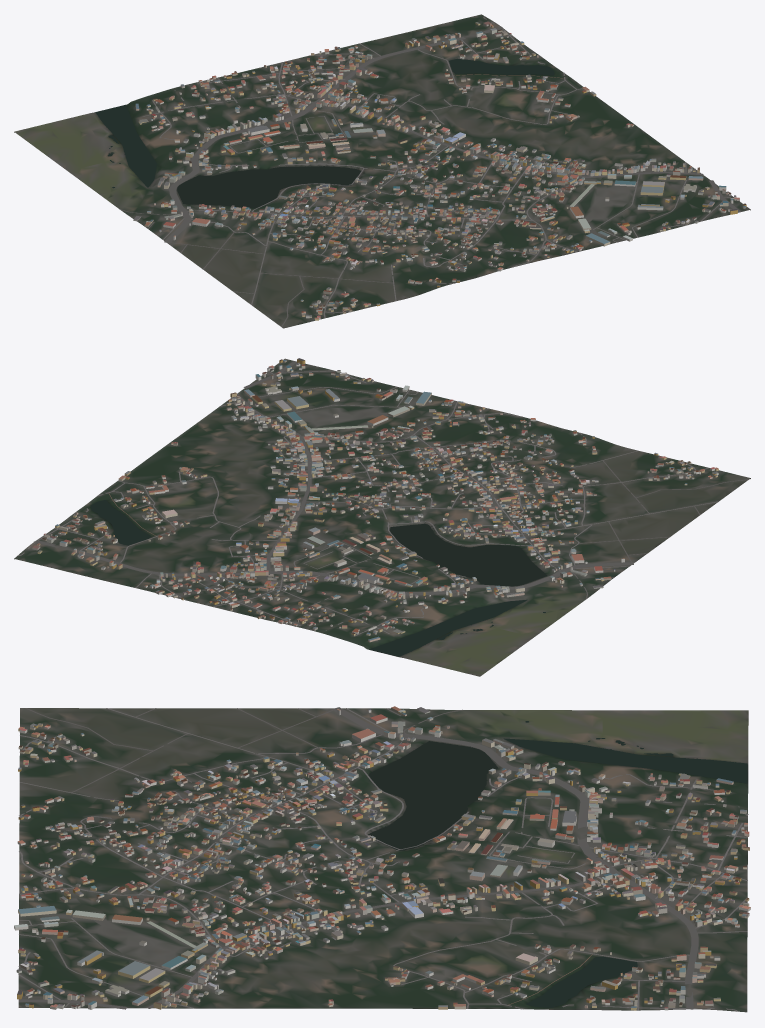
The picture shows the model from 3 angles, top to bottom: view 1: azimuth 30°, elevation 25°; view 2: azimuth 150°, elevation 25°; view 3: azimuth 270°, elevation 25°; orthographic projection. The views are drawn at different scales.
Visible parts, largest first — view 1: ground, buildings, roads, water; view 2: ground, buildings, roads, water; view 3: ground, buildings, water, roads.
Boxes of the visible parts, <box> form: ground: <box>14,14,750,328</box>; buildings: <box>133,21,746,320</box>; roads: <box>119,16,741,326</box>; water: <box>95,58,554,208</box>; ground: <box>14,358,750,676</box>; buildings: <box>32,358,718,642</box>; roads: <box>17,361,748,636</box>; water: <box>90,500,547,656</box>; ground: <box>18,708,748,1012</box>; buildings: <box>14,706,750,1010</box>; water: <box>368,721,747,1007</box>; roads: <box>18,707,748,1011</box>.
Size of the model in its own units: 1410 by 33.96 by 1418.
